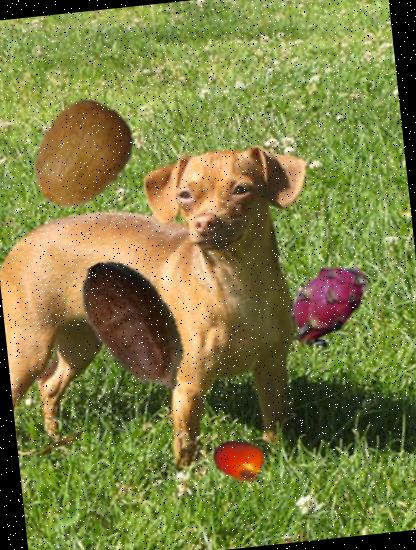Kaki: (210, 430, 268, 488)
Kiwi: (16, 92, 145, 220)
Nut: (54, 246, 218, 410)
Pitahaya: (272, 251, 374, 353)
